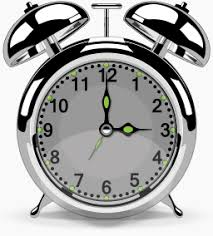alarm_clock: (8, 1, 211, 226)
